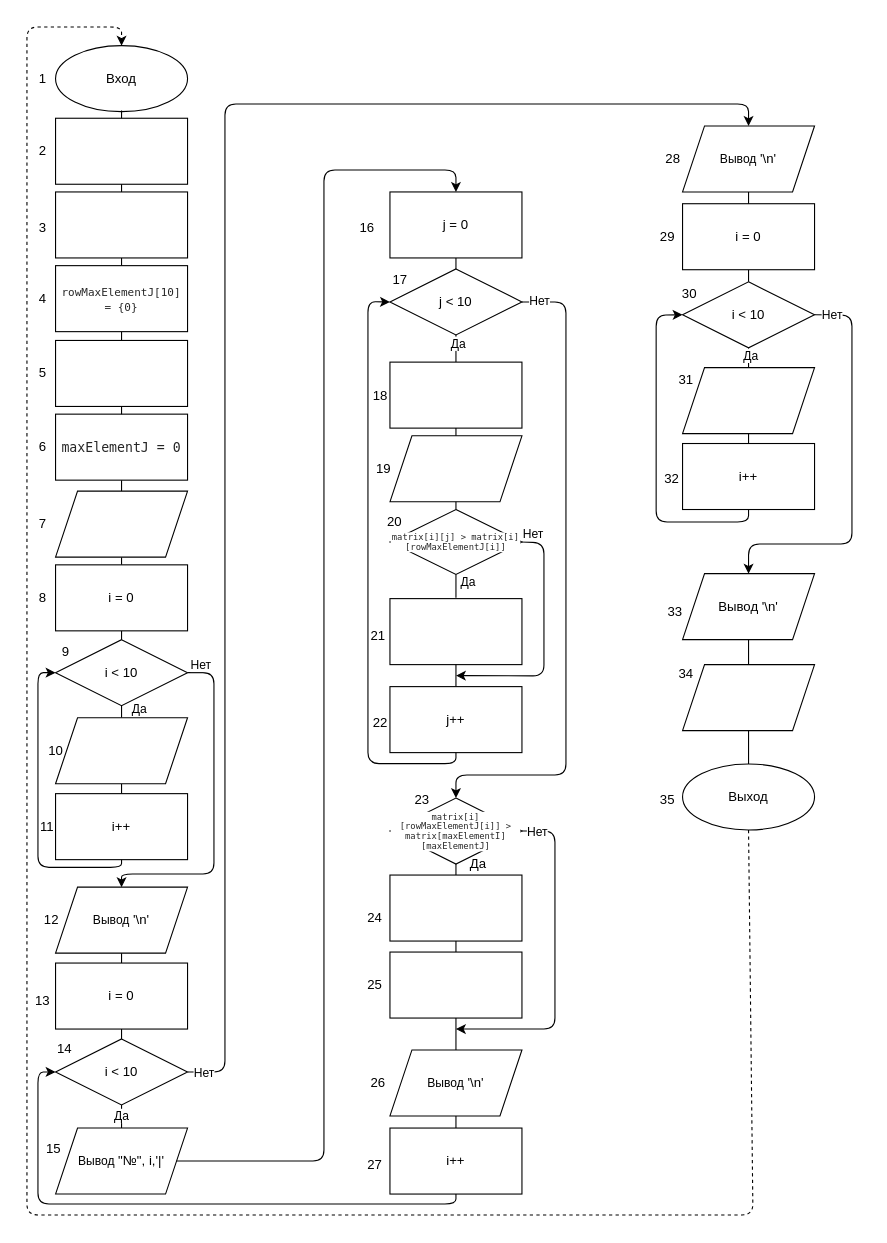
Some shapes in this 887 by 1243 pixel diagram are drawn without their labels. The shapes that lost their labels are listed below. From the top down, each one's box as (x1, y1, x2, y2) in pixels, then its label:
(54, 117, 188, 184): srand(time(0))
(54, 191, 188, 258): matrix[10][10]
(54, 339, 188, 406): maxElementI = 0
(389, 361, 522, 428): matrix[i][j] = rand() % 100
(681, 367, 815, 434): Вывод i, rowMaxElementJ[i], matrix[i][rowMaxElementJ[i]]
(389, 435, 522, 502): Вывод matrix[i][j]
(54, 490, 188, 557): Вывод "Matrix(10, 10):\n"
(389, 598, 522, 665): rowMaxElementJ[i] = j
(681, 664, 815, 731): Вывод maxElementI, maxElementJ, matrix[maxElementI][maxElementJ]
(54, 717, 188, 784): Вывод "_№", i
(389, 874, 522, 941): maxElementI = i
(389, 951, 522, 1018): maxElementJ = rowMaxElementJ[i]
